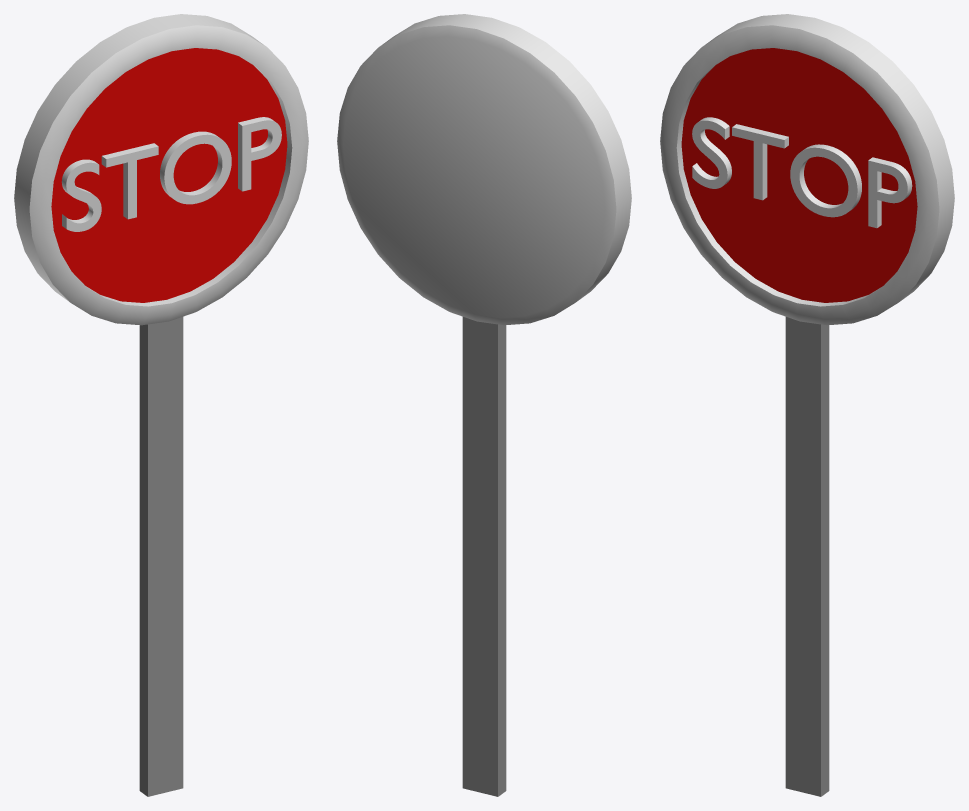
Rendered from durtabelasi.fbx.
3 renders of one model, left to right at view 1: azimuth 30°, elevation 25°; view 2: azimuth 150°, elevation 25°; view 3: azimuth 330°, elevation 25°, orthographic.
Visible parts, largest first — view 1: tabela, direk; view 2: tabela, direk; view 3: tabela, direk.
Part boxes in pixels (box(x1,y1,x2,y2)): tabela: box(14, 14, 308, 325); direk: box(139, 317, 183, 796); tabela: box(337, 14, 631, 325); direk: box(462, 317, 506, 796); tabela: box(660, 14, 954, 325); direk: box(785, 317, 829, 796).
Bounding box in the file's own units: 244 × 640 × 31.32.
